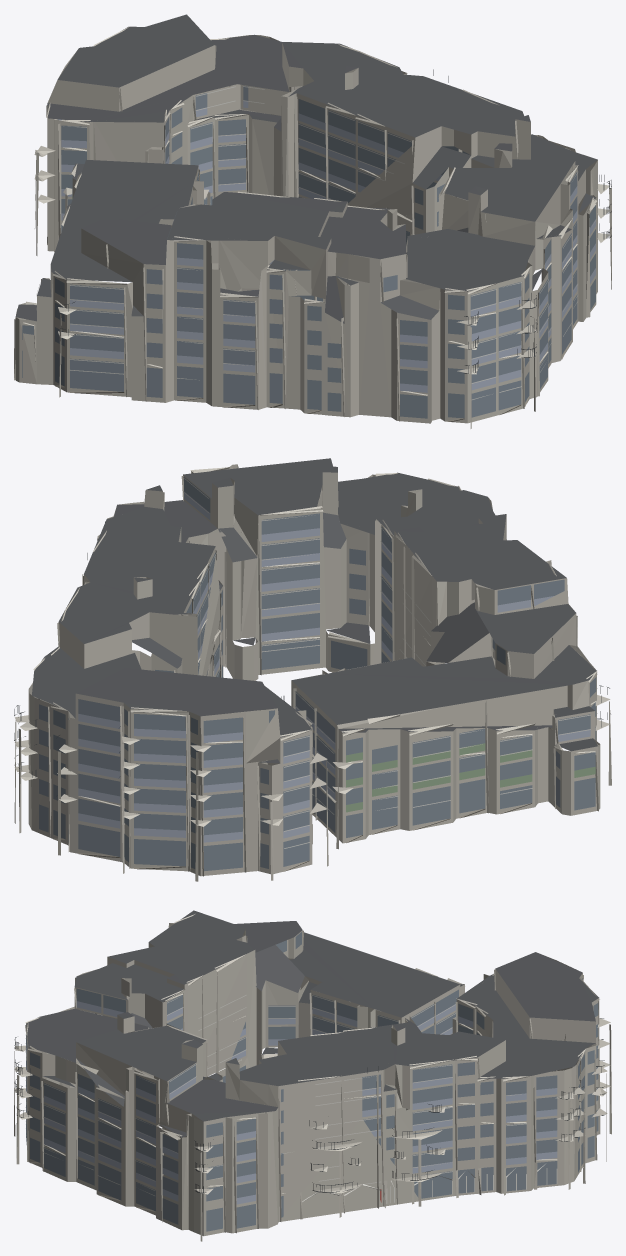
Rendered from pentagon.lod1.glb.
3 renders of one model, top to bottom at view 1: azimuth 30°, elevation 25°; view 2: azimuth 150°, elevation 25°; view 3: azimuth 270°, elevation 25°, orthographic. The views are drawn at different scales.
Parts seen in each view (by area): view 1: pentagon; view 2: pentagon; view 3: pentagon.
Boxes of the visible parts, x1,y1,x2,y2 form: pentagon: (14, 14, 611, 428); pentagon: (14, 458, 611, 881); pentagon: (14, 910, 611, 1241).
Bounding box in the file's own units: 63.69 × 19.61 × 70.21.
